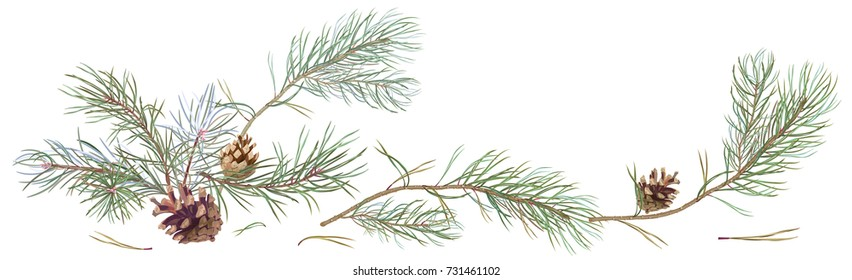Pc: (145, 185, 223, 247), (636, 161, 680, 217), (220, 132, 257, 179)
